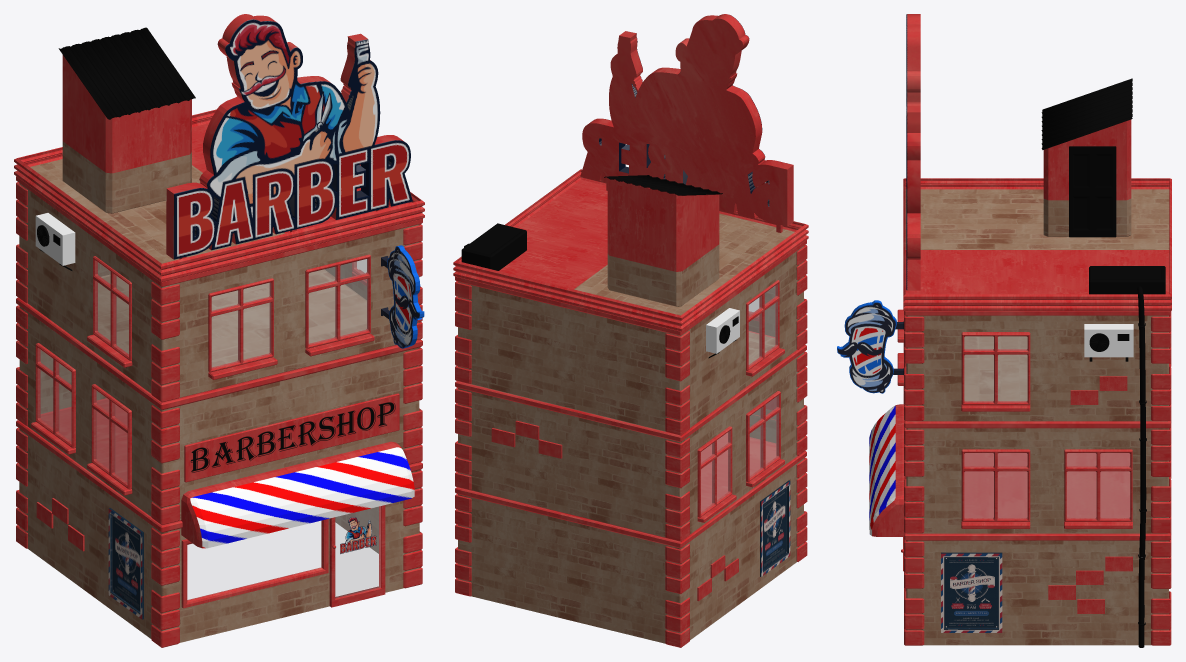
Rendered from barber_shop_-_stylised.glb.
The picture shows the model from 3 angles, left to right: view 1: azimuth 30°, elevation 25°; view 2: azimuth 150°, elevation 25°; view 3: azimuth 270°, elevation 25°; orthographic projection. The views are drawn at different scales.
Parts seen in each view (by area): view 1: Shop Base, Cube.001, Cube.003, Roof, Roof Doorway, Simple Single Window_Single Window, Roof Doorway.001, Barber shop front board for sign, Simple Window_Simple Window.004, Simple Window_Simple Window.005, Door, Simple Window_Simple Window.007 (+9 smaller); view 2: Shop Base, Cube.001, Roof, Roof Doorway, Simple Window_Simple Window.008, Simple Window_Simple Window.007, Plane.002, Simple Window_Simple Window.006, Water Tank, Air Conditioner Unit.001, Roof Doorway.001; view 3: Shop Base, Roof, Simple Window_Simple Window.002, Simple Window_Simple Window, Simple Window_Simple Window.001, Plane.001, Roof Doorway, Low Poly Door_Cube.006, Cube.003, Cube.001, Plane, Roof Doorway.001 (+6 smaller).
Part boxes in pixels (x1,y1,x2,y2): Shop Base: (16,176,422,647); Cube.001: (166,14,412,259); Cube.003: (181,441,414,548); Roof: (14,109,424,282); Roof Doorway: (62,55,191,213); Simple Single Window_Single Window: (181,519,328,608); Roof Doorway.001: (58,27,195,119); Barber shop front board for sign: (184,393,399,482); Simple Window_Simple Window.004: (208,278,273,372); Simple Window_Simple Window.005: (305,254,370,348); Door: (329,505,385,607); Simple Window_Simple Window.007: (91,384,131,489); Shop Base: (455,240,807,647); Cube.001: (580,14,793,226); Roof: (453,169,808,331); Roof Doorway: (607,178,719,306); Simple Window_Simple Window.008: (697,426,732,517); Simple Window_Simple Window.007: (746,391,780,482); Plane.002: (760,480,790,576); Simple Window_Simple Window.006: (746,280,779,370); Water Tank: (461,223,526,270); Air Conditioner Unit.001: (706,308,739,358); Roof Doorway.001: (604,175,722,195); Shop Base: (903,311,1171,645); Roof: (903,178,1171,311); Simple Window_Simple Window.002: (961,332,1030,405); Simple Window_Simple Window: (961,449,1030,521); Simple Window_Simple Window.001: (1064,449,1132,521); Plane.001: (941,552,1002,632); Roof Doorway: (1043,119,1131,236); Low Poly Door_Cube.006: (1069,146,1116,237); Cube.003: (869,404,904,536); Cube.001: (906,14,920,290); Plane: (837,300,903,393); Roof Doorway.001: (1041,78,1132,149).
Size of the model in its own units: 5.92 by 11.98 by 6.55.
Materials: 6 (5 with a texture image).
